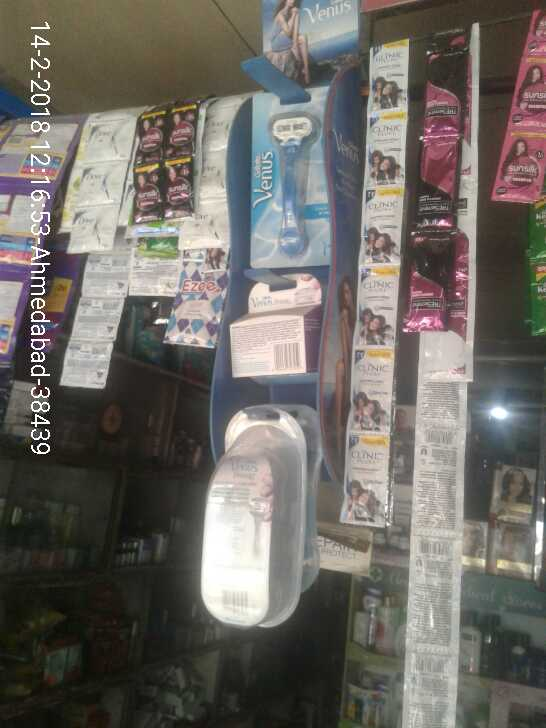venus: (250, 89, 333, 265)
